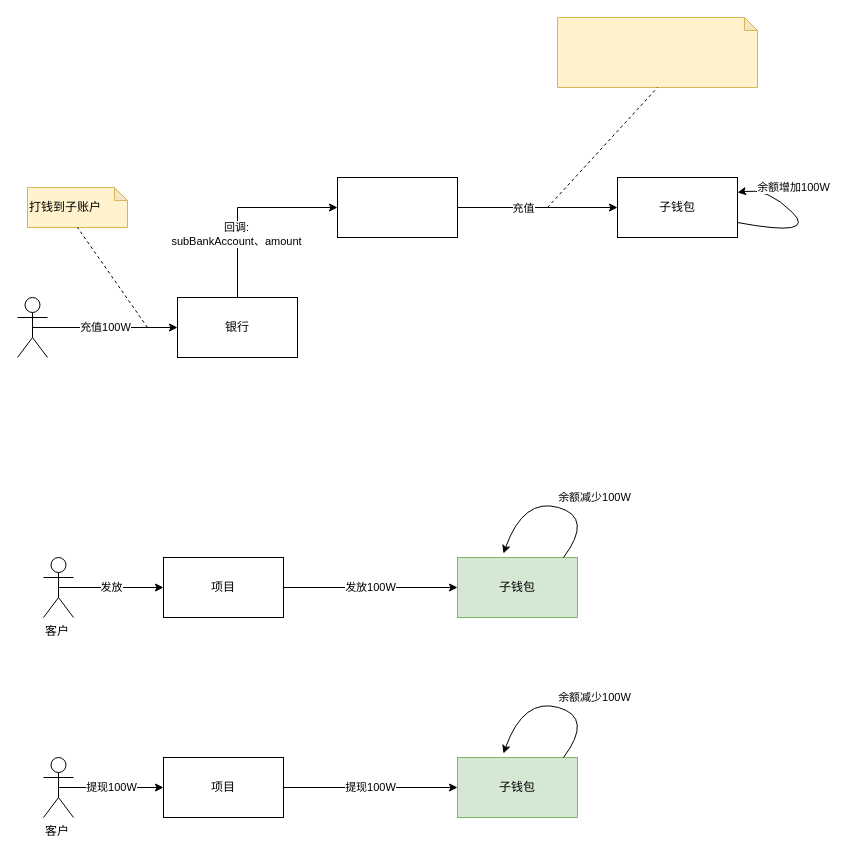
The diagram is 847 pixels wide and 856 high, and some of its shapes have lost their labels. The centre of each missing label's shape, as x and y in pixels:
"佣金宝" goes at pixel 397 207.
"客户" goes at pixel 32 327.
"根据子账户找到项目、支付渠道， 从而找到钱包，增加对应钱包的余额" goes at pixel 657 52.
